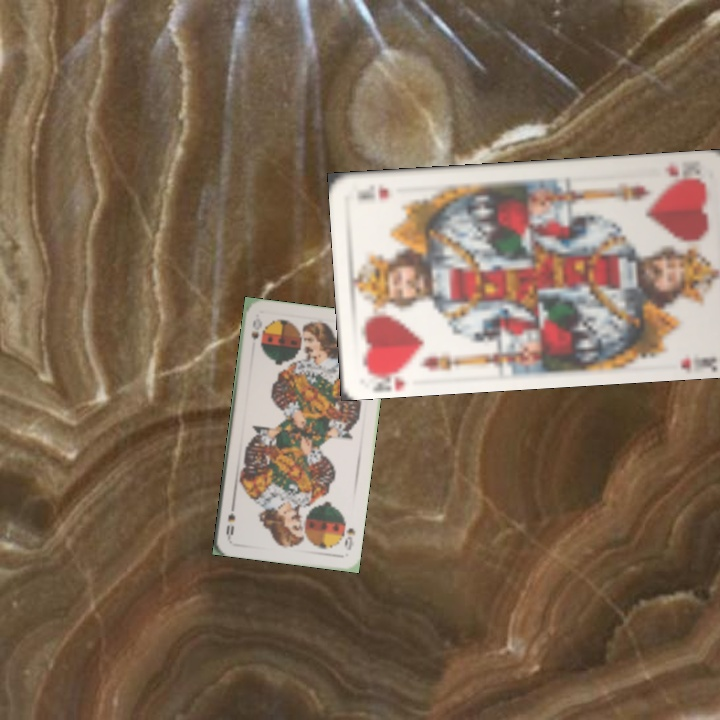HK: (364, 361, 408, 390), (660, 157, 702, 186)
SO: (339, 517, 358, 553), (247, 314, 264, 342)
